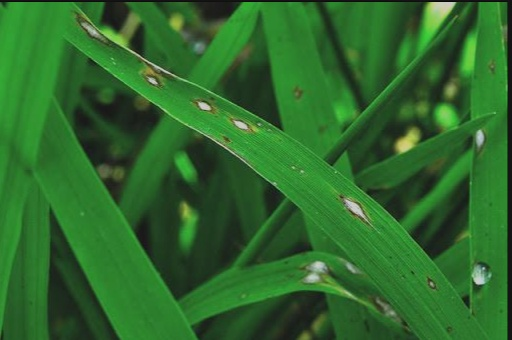Brown_Spot: (70, 13, 117, 43), (335, 190, 378, 220), (466, 123, 491, 161), (139, 67, 175, 87), (227, 113, 253, 134), (192, 91, 216, 113)
